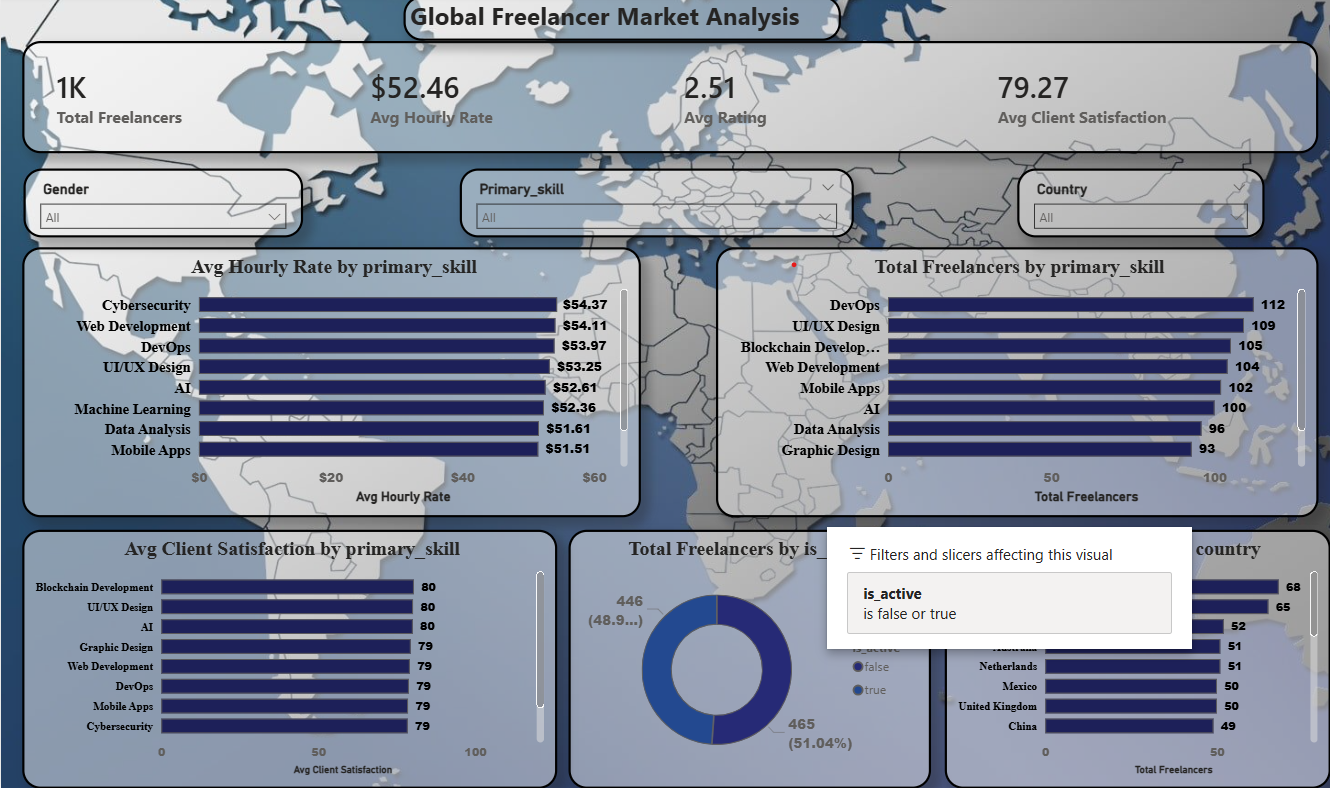

This screenshot's page, from the dashboard's own definition file:
{"tool":"powerbi","page":{"name":"Page 1","canvas":[1450,865],"ordinal":0},"visuals":[{"type":"cardVisual","fields":{"Data":["global_freelancers_raw - Copy.Total Freelancers","global_freelancers_raw - Copy.Avg Hourly Rate","global_freelancers_raw - Copy.Avg Rating","global_freelancers_raw - Copy.Avg Client Satisfaction"]},"box":[23.2,49.1,1413.1,122.6],"z":0},{"type":"clusteredBarChart","fields":{"Category":["global_freelancers_raw - Copy.primary_skill"],"Y":["global_freelancers_raw - Copy.Total Freelancers"]},"box":[779.4,273.9,656.8,294.3],"z":1000},{"type":"clusteredBarChart","fields":{"Category":["global_freelancers_raw - Copy.primary_skill"],"Y":["global_freelancers_raw - Copy.Avg Hourly Rate"]},"box":[23.2,273.9,674.5,294.3],"z":2000},{"type":"donutChart","fields":{"Category":["global_freelancers_raw - Copy.is_active"],"Y":["global_freelancers_raw - Copy.Total Freelancers"]},"box":[618.6,581.8,395.2,282.1],"z":3000},{"type":"clusteredBarChart","fields":{"Category":["global_freelancers_raw - Copy.country"],"Y":["global_freelancers_raw - Copy.Total Freelancers"]},"box":[1028.8,581.8,421.1,282.1],"z":4000},{"type":"clusteredBarChart","fields":{"Category":["global_freelancers_raw - Copy.primary_skill"],"Y":["global_freelancers_raw - Copy.Avg Client Satisfaction"]},"box":[23.2,581.8,583.2,282.1],"z":5000},{"type":"slicer","fields":{"Values":["global_freelancers_raw - Copy.gender"]},"box":[24.7,188,304.6,75.5],"z":6000},{"type":"slicer","fields":{"Values":["global_freelancers_raw - Copy.country"]},"box":[1107.8,188,269.8,74.9],"z":7000},{"type":"slicer","fields":{"Values":["global_freelancers_raw - Copy.primary_skill"]},"box":[500.1,188,429.2,74.9],"z":8000},{"type":"textbox","box":[438.8,0,476.9,49.1],"z":9000}]}

Visuals, with their boxes in screenshot pixels (x1, y1, x2, y2), scaled from the page's 1450x865 canvas onto the 1330x788 screenshot:
cardVisual - global_freelancers_raw - Copy.Total Freelancers x global_freelancers_raw - Copy.Avg Hourly Rate: <region>21, 45, 1317, 156</region>
clusteredBarChart - global_freelancers_raw - Copy.primary_skill x global_freelancers_raw - Copy.Total Freelancers: <region>715, 250, 1317, 518</region>
clusteredBarChart - global_freelancers_raw - Copy.primary_skill x global_freelancers_raw - Copy.Avg Hourly Rate: <region>21, 250, 640, 518</region>
donutChart - global_freelancers_raw - Copy.is_active x global_freelancers_raw - Copy.Total Freelancers: <region>567, 530, 930, 787</region>
clusteredBarChart - global_freelancers_raw - Copy.country x global_freelancers_raw - Copy.Total Freelancers: <region>944, 530, 1329, 787</region>
clusteredBarChart - global_freelancers_raw - Copy.primary_skill x global_freelancers_raw - Copy.Avg Client Satisfaction: <region>21, 530, 556, 787</region>
slicer - global_freelancers_raw - Copy.gender: <region>23, 171, 302, 240</region>
slicer - global_freelancers_raw - Copy.country: <region>1016, 171, 1264, 239</region>
slicer - global_freelancers_raw - Copy.primary_skill: <region>459, 171, 852, 239</region>
textbox: <region>402, 0, 840, 45</region>
